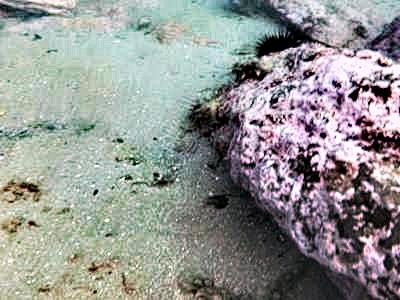urchin: (253, 31, 306, 54)
